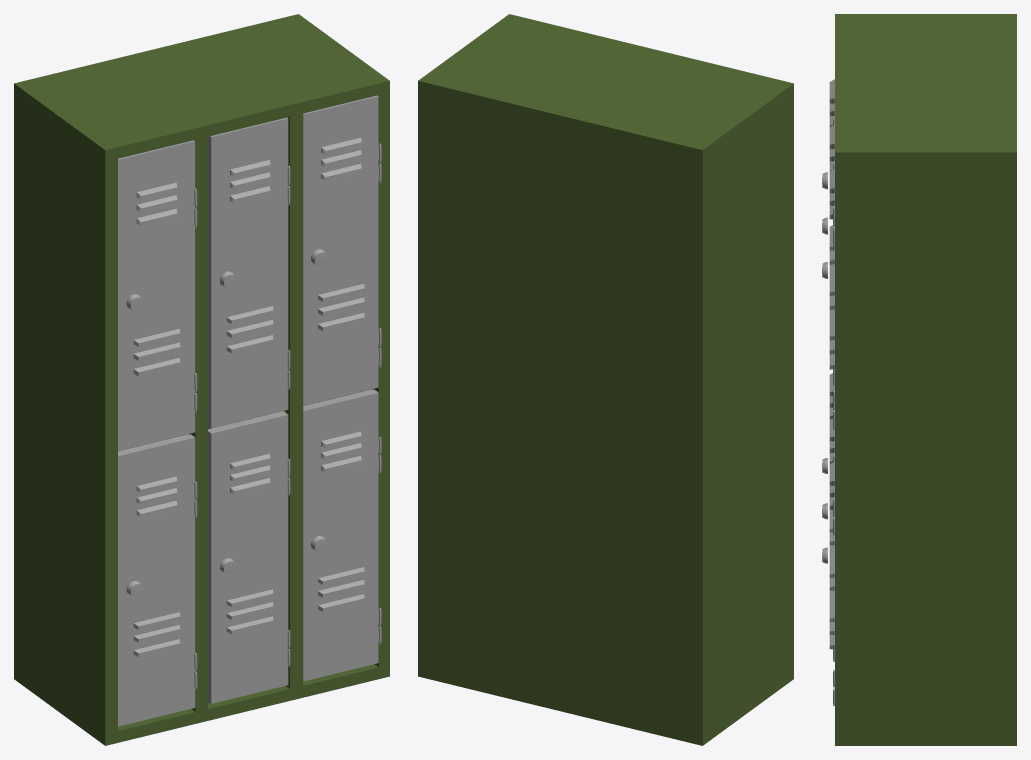
The model's file is Locker small.fbx.
3 views of the same model, side by side, from view 1: azimuth 30°, elevation 25°; view 2: azimuth 150°, elevation 25°; view 3: azimuth 270°, elevation 25° (orthographic).
Visible parts, largest first — view 1: polySurface21; view 2: polySurface21; view 3: polySurface21.
Part boxes in pixels (x1,y1,x2,y2): polySurface21: (14,14,389,745); polySurface21: (418,14,793,745); polySurface21: (822,14,1016,745).
Size of the model in its own units: 9 by 18 by 5.36.
